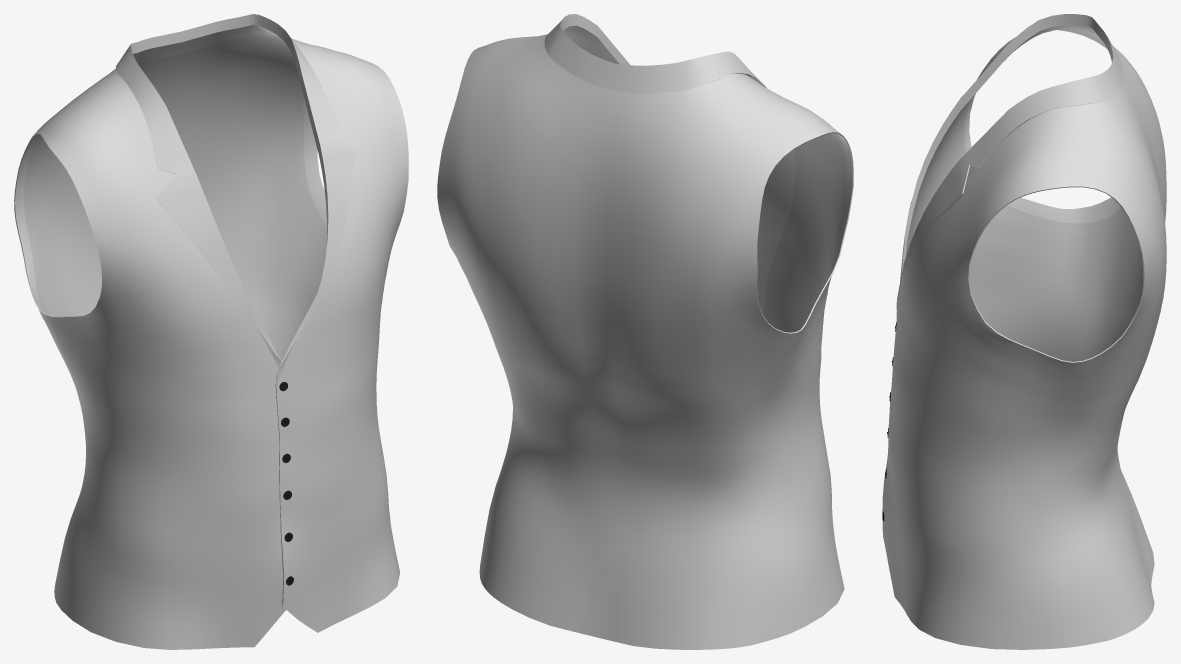
File: SM_CarlosSA_Waistcoat_FrontButtons_SB6Pointed.fbx
3 views of the same model, side by side, from view 1: azimuth 30°, elevation 25°; view 2: azimuth 150°, elevation 25°; view 3: azimuth 270°, elevation 25° (orthographic). The views are drawn at different scales.
Visible parts, largest first — view 1: SM_CarlosSA_Waistcoat_FrontButtons_SB6Pointed; view 2: SM_CarlosSA_Waistcoat_FrontButtons_SB6Pointed; view 3: SM_CarlosSA_Waistcoat_FrontButtons_SB6Pointed.
Part boxes in pixels (bbox=[...]): SM_CarlosSA_Waistcoat_FrontButtons_SB6Pointed: bbox=[14, 14, 408, 649]; SM_CarlosSA_Waistcoat_FrontButtons_SB6Pointed: bbox=[437, 14, 853, 649]; SM_CarlosSA_Waistcoat_FrontButtons_SB6Pointed: bbox=[882, 14, 1166, 649].
Size of the model in its own units: 0.3797 by 0.592 by 0.2829.
